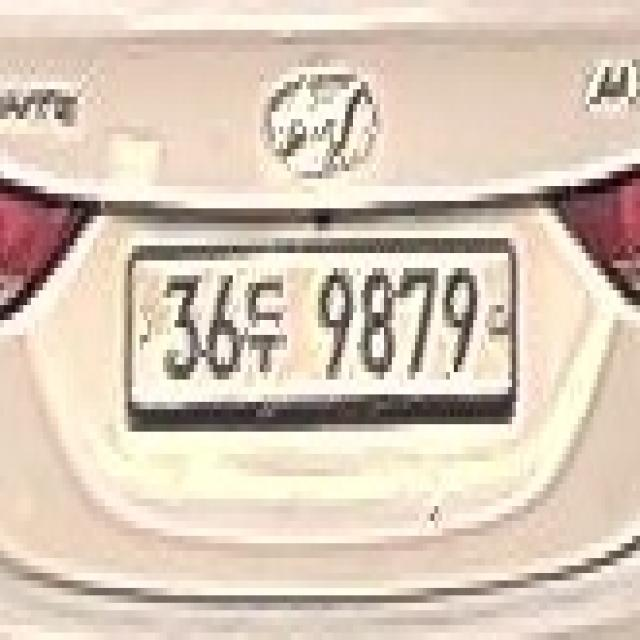3: (159, 260, 202, 387)
6: (206, 268, 240, 379)
7: (399, 261, 438, 372)
8: (360, 261, 396, 372)
9: (318, 260, 357, 380), (442, 260, 481, 380)
du: (244, 268, 287, 379)
license_plate: (124, 246, 520, 417)
